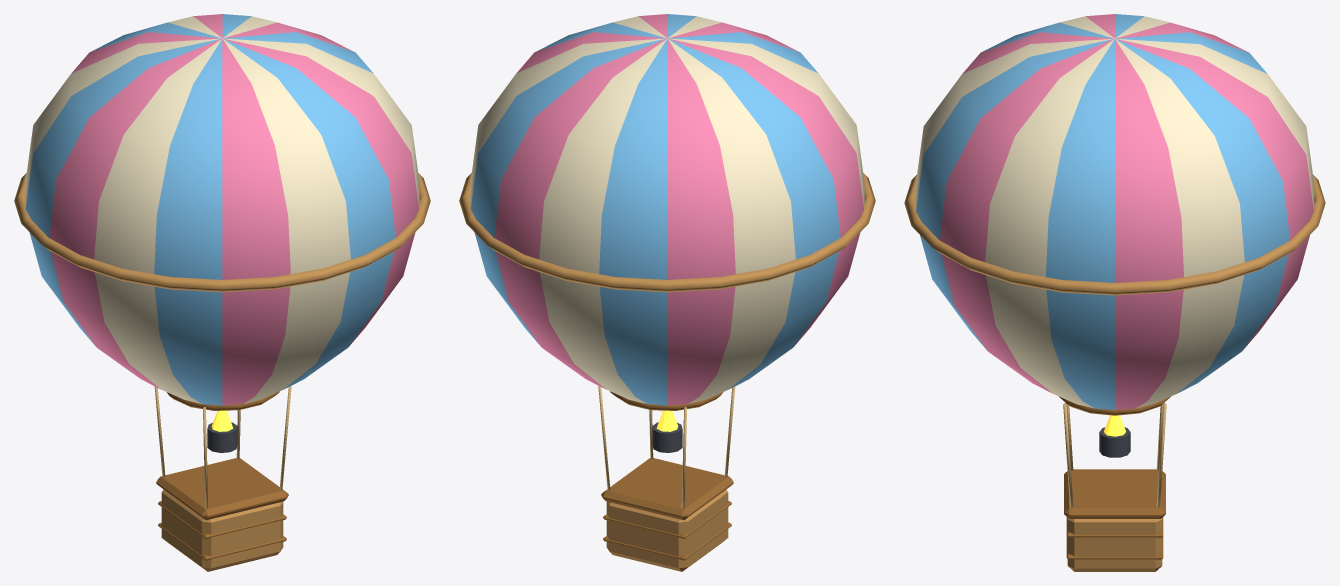
File: nuvens-balao.glb
3 views of the same model, side by side, from view 1: azimuth 30°, elevation 25°; view 2: azimuth 150°, elevation 25°; view 3: azimuth 270°, elevation 25° (orthographic).
Parts seen in each view (by area): view 1: balao; view 2: balao; view 3: balao.
Part boxes in pixels (x1=…): balao: x1=14, y1=14, x2=430, y2=571; balao: x1=459, y1=14, x2=875, y2=571; balao: x1=904, y1=14, x2=1325, y2=571.
Bounding box in the file's own units: 4.88 × 6.59 × 4.88.
